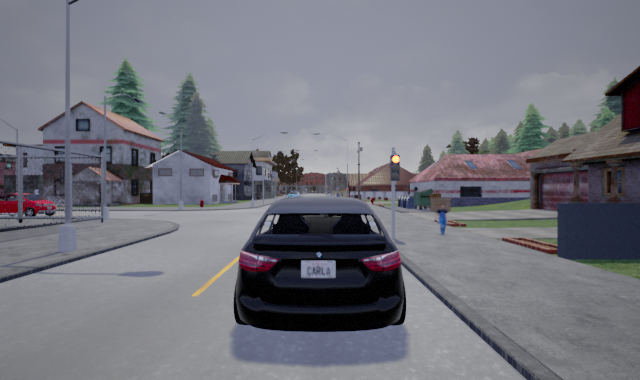pedestrian: (433, 201, 453, 236)
vehicle: (232, 197, 406, 331), (1, 192, 61, 218)
